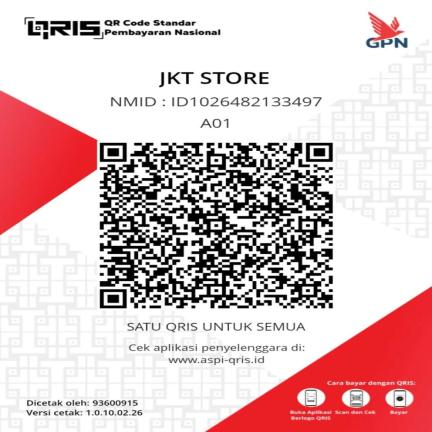Barcode_Asli: (95, 140, 337, 312)
